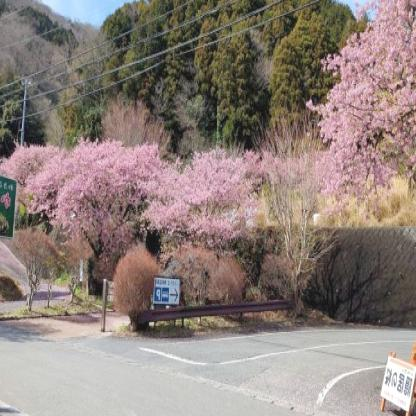KawazuSakura: (0, 135, 306, 228), (301, 0, 416, 219), (152, 276, 181, 308)
